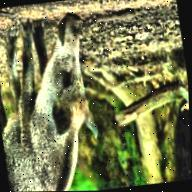boar: (0, 0, 118, 192)
